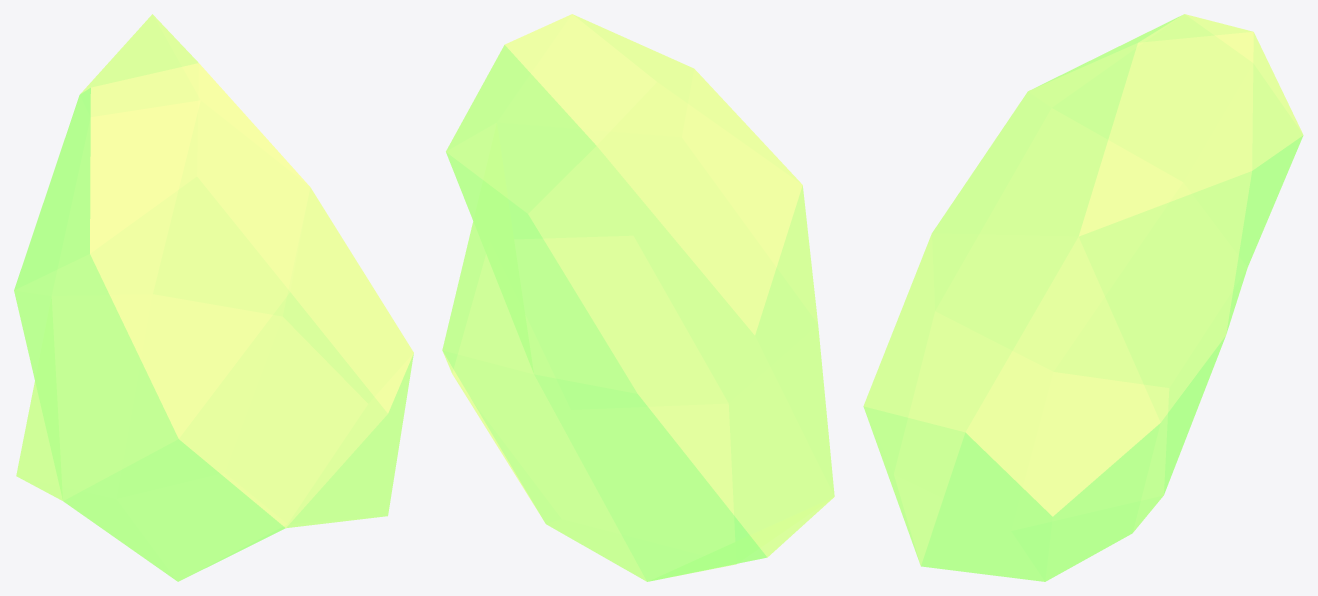
The model's file is enemy4.fbx.
3 renders of one model, left to right at view 1: azimuth 30°, elevation 25°; view 2: azimuth 150°, elevation 25°; view 3: azimuth 270°, elevation 25°, orthographic. The views are drawn at different scales.
Parts seen in each view (by area): view 1: Enemy-4; view 2: Enemy-4; view 3: Enemy-4.
Part boxes in pixels (x1,y1,x2,y2): Enemy-4: (14,14,413,581); Enemy-4: (442,14,834,581); Enemy-4: (863,14,1303,581).
Bounding box in the file's own units: 91.83 × 132 × 97.
